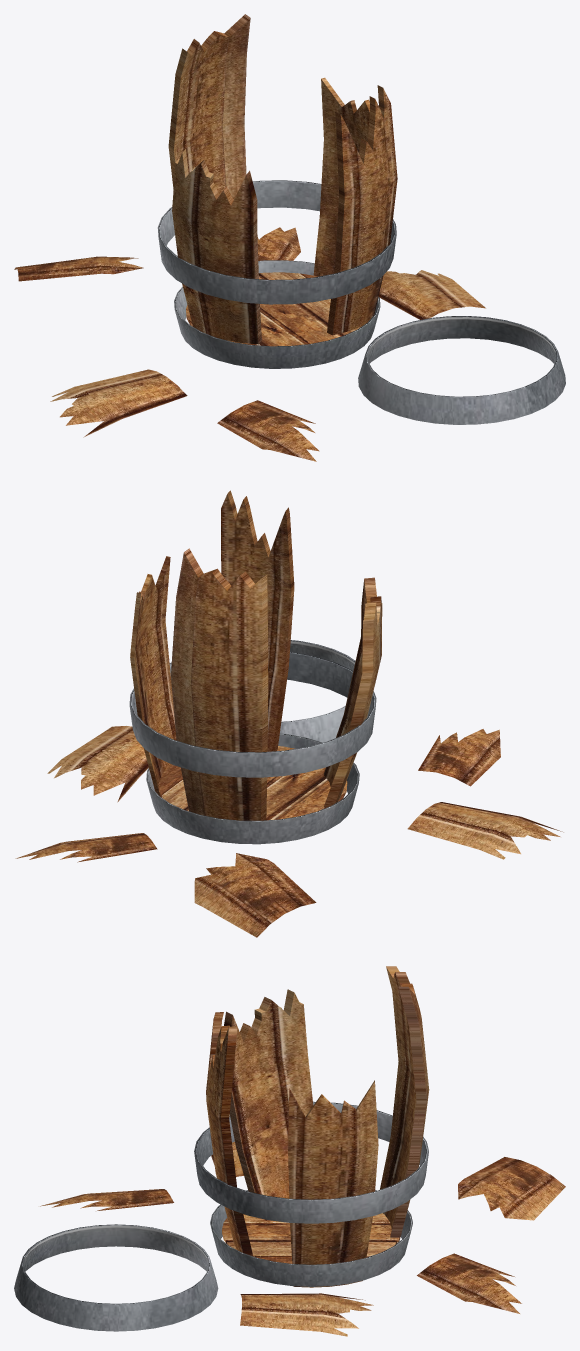
The model's file is brokenbarrel.fbx.
3 views of the same model, one above another, from view 1: azimuth 30°, elevation 25°; view 2: azimuth 150°, elevation 25°; view 3: azimuth 270°, elevation 25° (orthographic). The views are drawn at different scales.
Parts seen in each view (by area): view 1: polySurface24, polySurface5, polySurface18, polySurface26, polySurface3, polySurface2, polySurface29, polySurface22, polySurface1, polySurface27, polySurface25, polySurface23 (+1 smaller); view 2: polySurface18, polySurface3, polySurface26, polySurface22, polySurface23, polySurface2, polySurface29, polySurface24, polySurface25, polySurface1, polySurface27, polySurface5 (+1 smaller); view 3: polySurface24, polySurface22, polySurface5, polySurface3, polySurface18, polySurface2, polySurface26, polySurface23, polySurface25, polySurface28, polySurface1, polySurface27.
Boxes of the visible parts, bbox=[...] form: polySurface24: bbox=[172, 149, 261, 344]; polySurface5: bbox=[358, 316, 565, 424]; polySurface18: bbox=[168, 14, 250, 199]; polySurface26: bbox=[327, 85, 397, 335]; polySurface3: bbox=[157, 180, 396, 304]; polySurface2: bbox=[174, 260, 380, 368]; polySurface29: bbox=[50, 369, 187, 437]; polySurface22: bbox=[313, 77, 369, 276]; polySurface1: bbox=[186, 272, 361, 346]; polySurface27: bbox=[217, 400, 319, 461]; polySurface25: bbox=[378, 270, 485, 319]; polySurface23: bbox=[14, 256, 143, 281]; polySurface18: bbox=[171, 548, 268, 820]; polySurface3: bbox=[129, 651, 376, 777]; polySurface26: bbox=[221, 490, 294, 751]; polySurface22: bbox=[130, 556, 176, 797]; polySurface23: bbox=[194, 853, 316, 937]; polySurface2: bbox=[146, 733, 359, 844]; polySurface29: bbox=[407, 802, 563, 859]; polySurface24: bbox=[323, 577, 382, 807]; polySurface25: bbox=[47, 726, 148, 802]; polySurface1: bbox=[158, 746, 347, 820]; polySurface27: bbox=[418, 729, 500, 786]; polySurface5: bbox=[280, 640, 355, 742]; polySurface24: bbox=[224, 989, 313, 1198]; polySurface22: bbox=[288, 1080, 378, 1287]; polySurface5: bbox=[14, 1224, 218, 1331]; polySurface3: bbox=[194, 1101, 428, 1223]; polySurface18: bbox=[380, 966, 429, 1242]; polySurface2: bbox=[210, 1190, 412, 1286]; polySurface26: bbox=[206, 1012, 252, 1256]; polySurface23: bbox=[458, 1157, 565, 1220]; polySurface25: bbox=[240, 1293, 373, 1336]; polySurface28: bbox=[417, 1253, 521, 1313]; polySurface1: bbox=[222, 1213, 399, 1263]; polySurface27: bbox=[40, 1189, 173, 1210].
Bounding box in the file's own units: 9.09 × 5.63 × 10.16.
